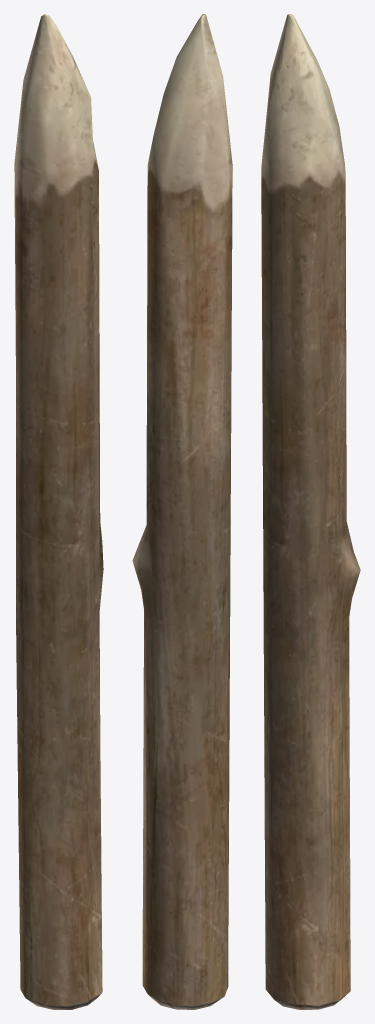
The picture shows the model from 3 angles, left to right: view 1: azimuth 30°, elevation 25°; view 2: azimuth 150°, elevation 25°; view 3: azimuth 330°, elevation 25°; orthographic projection.
Visible parts, largest first — view 1: SM_Garou_Set_SM_Spike_04_01_LOD0; view 2: SM_Garou_Set_SM_Spike_04_01_LOD0; view 3: SM_Garou_Set_SM_Spike_04_01_LOD0.
Boxes of the visible parts, <box> form: SM_Garou_Set_SM_Spike_04_01_LOD0: <box>14,14,103,1009</box>; SM_Garou_Set_SM_Spike_04_01_LOD0: <box>132,14,232,1009</box>; SM_Garou_Set_SM_Spike_04_01_LOD0: <box>261,14,360,1009</box>.
Size of the model in its own units: 0.184 by 1.98 by 0.1613.
1 material, 1 textured.
